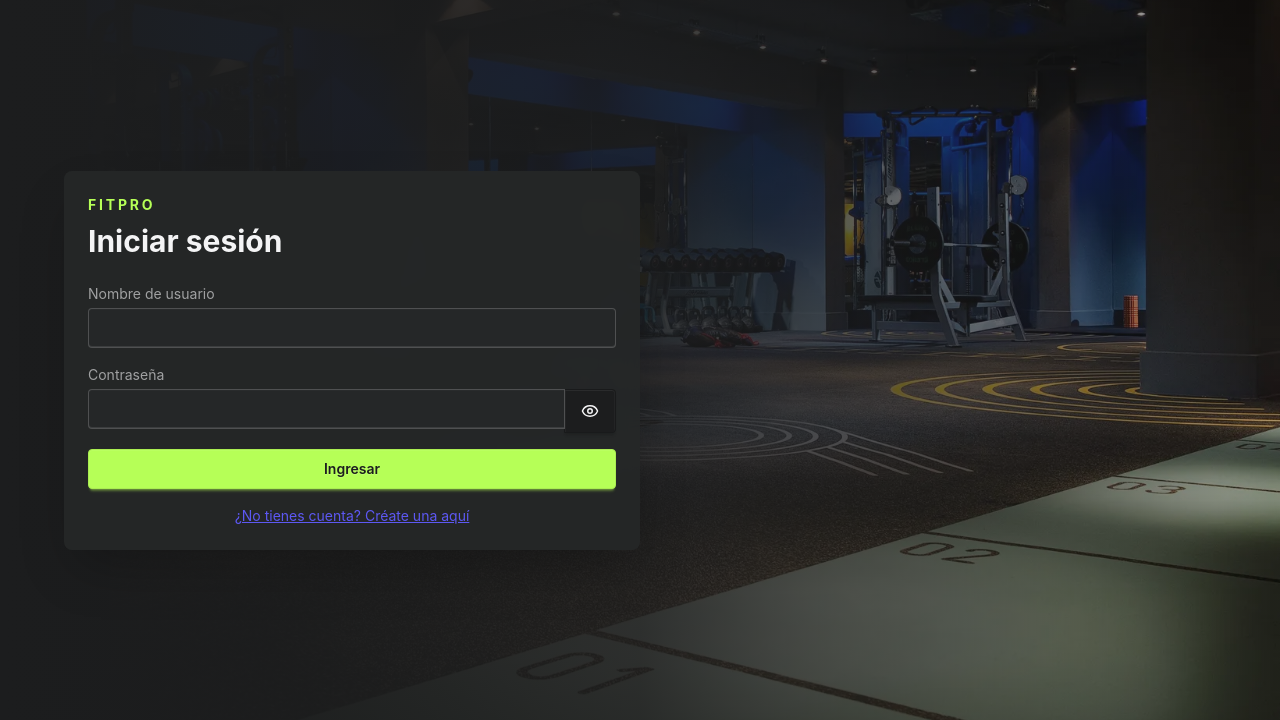
Test: FitPro shell › starts at login and switches to complete registration without navbar
This screenshot has width=1280, height=720.
expect the heading "Iniciar sesión" is shown: met, box [88,222,282,258]
What coordinates should you click on to do the following:
click the button "¿No tienes cuenta? Créate una aquí"
I would click on:
 (352, 515)
Its box is [88,504,616,526].
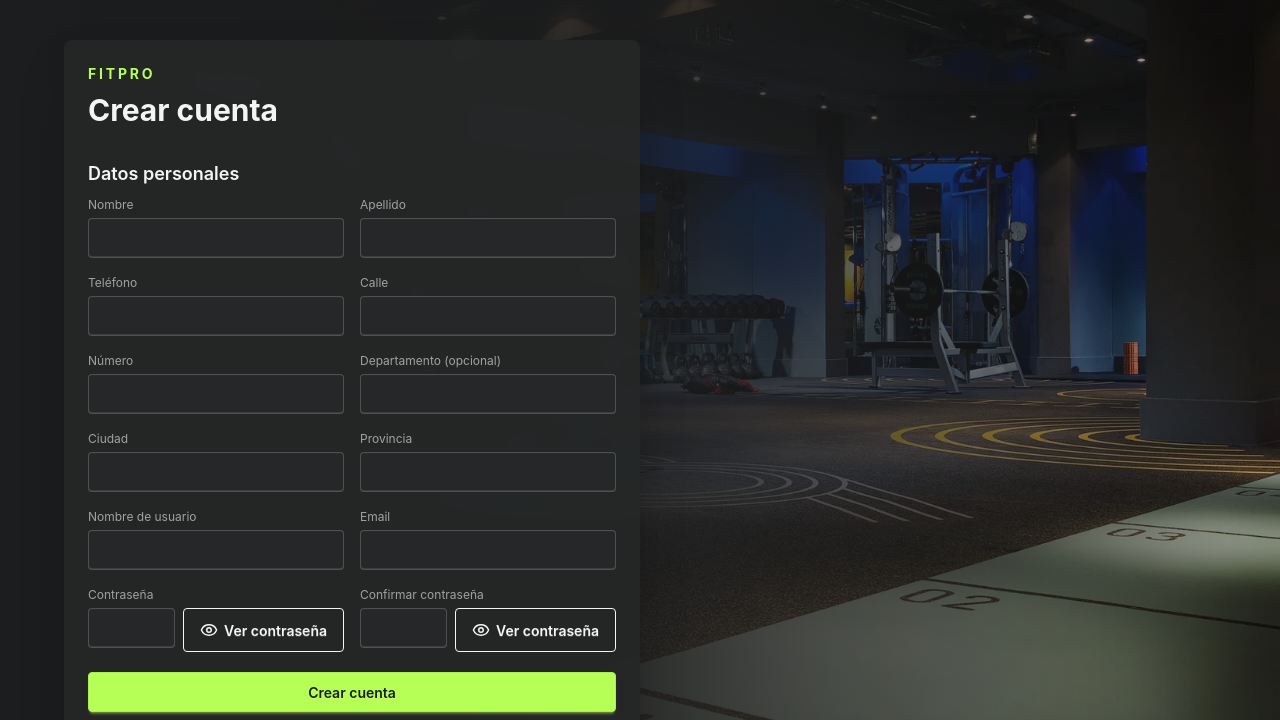
expect the password field labelled "Confirmar contraseña" is shown: met, box [360,608,447,648]
